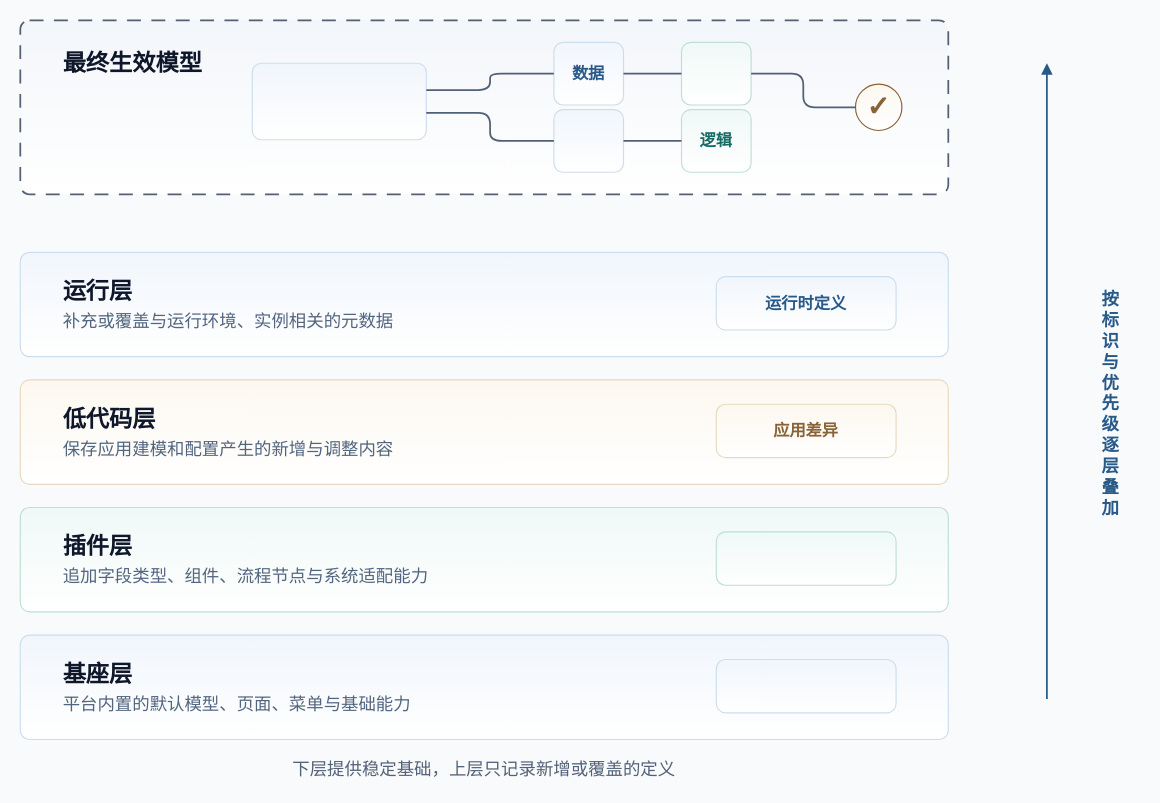
This 1160x803 diagram has some shape labels left out. The shapes that lost their labels are listed below. From the top down, each one's centre as x and y in pixels, then its label:
point (715, 73): 页面
point (338, 101): 业务模型
point (588, 140): 接口
point (805, 558): 可复用扩展
point (805, 685): 默认定义
